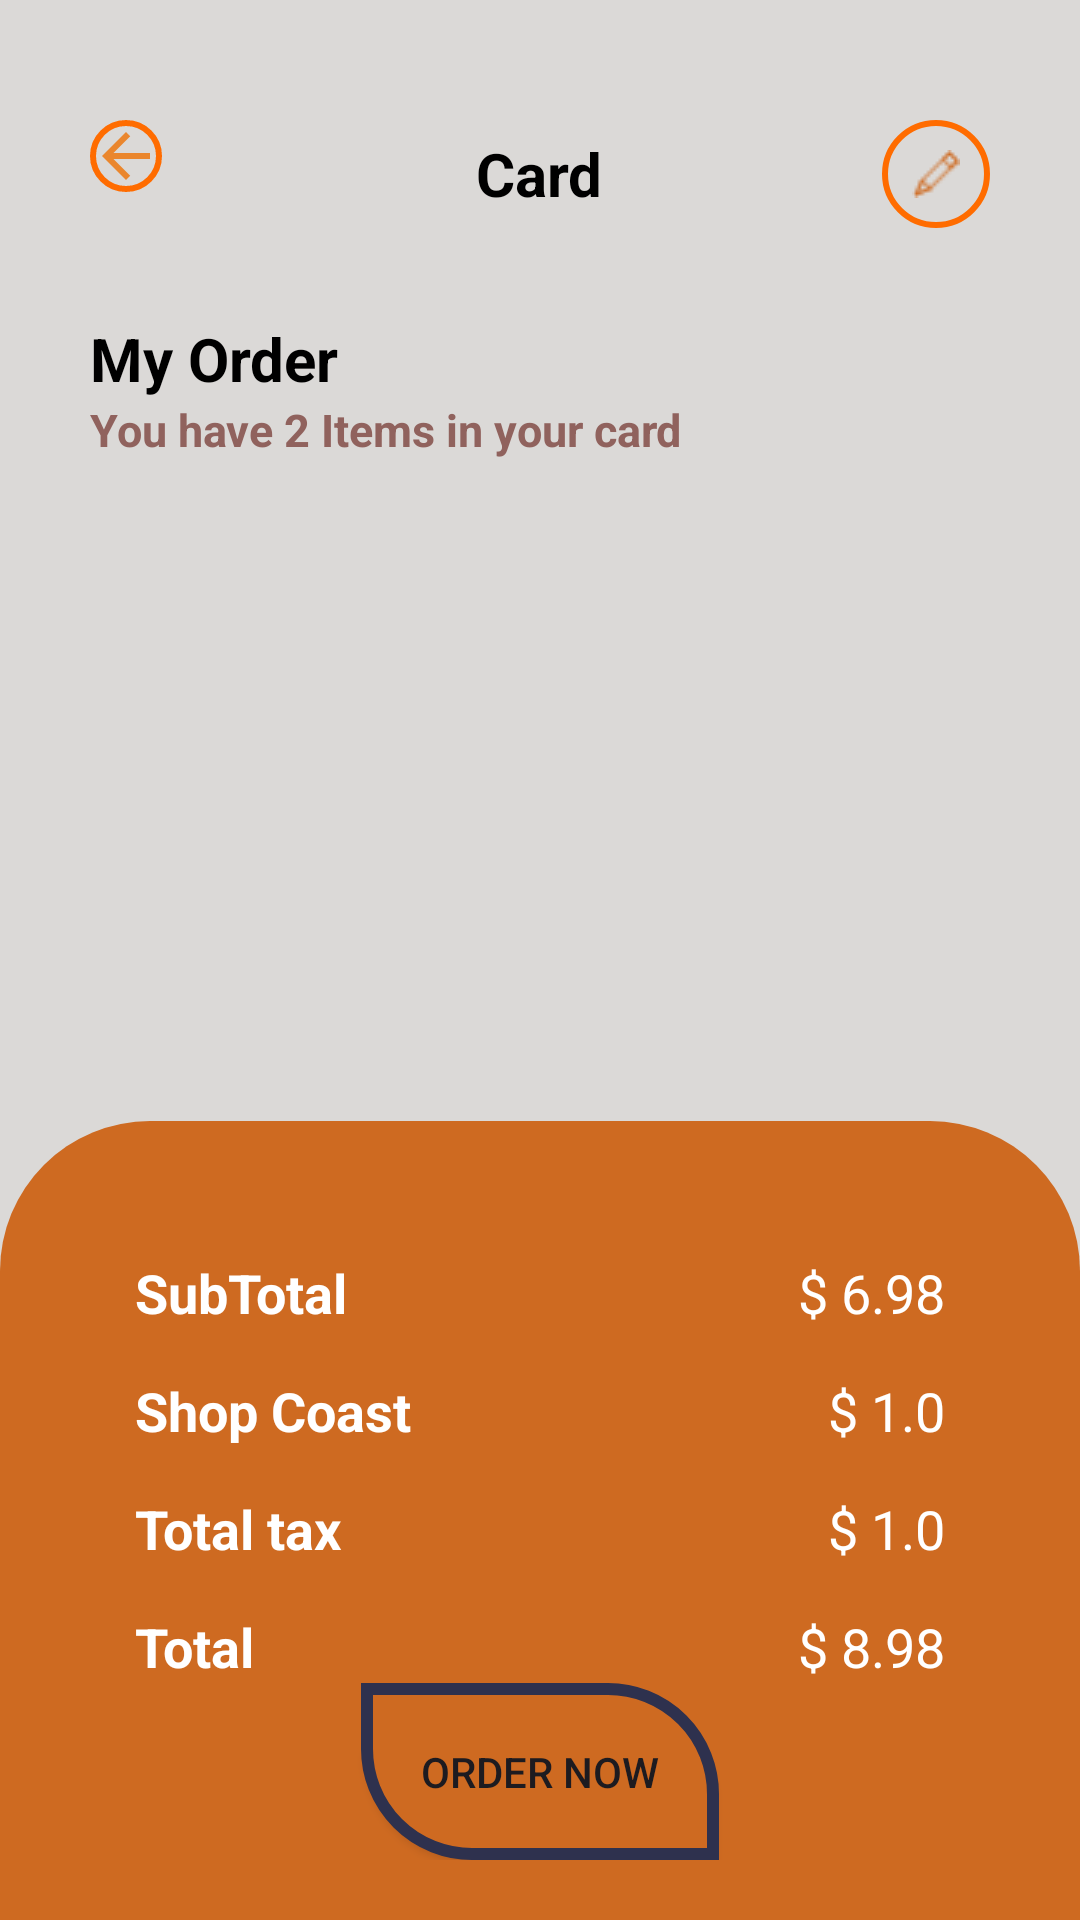

Point at icon controls on the screen. Image size 1080 × 1920, points as [x,y].
arrow back: [126,156]
editicon: [936,174]
